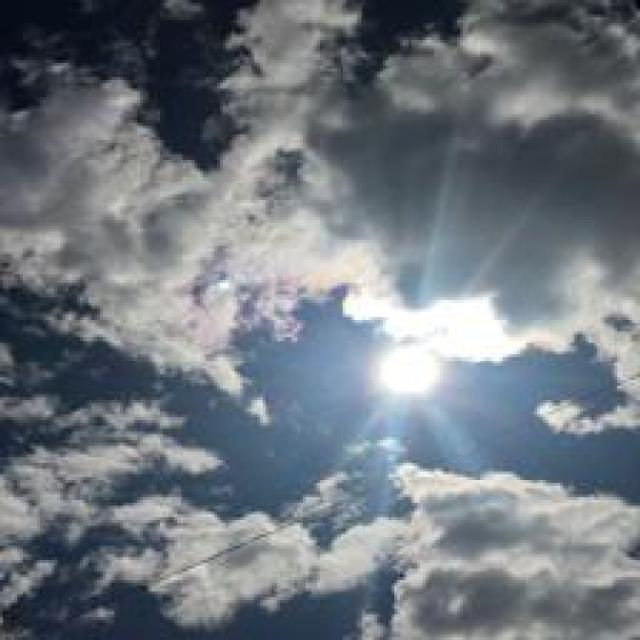sun: (381, 348, 440, 393)
